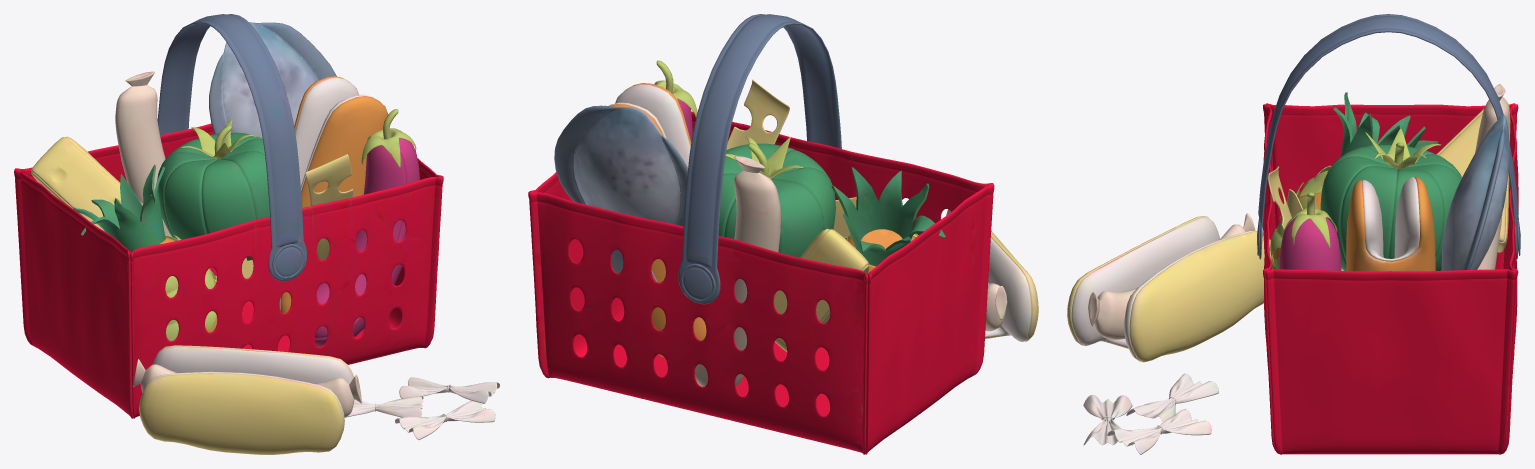
The model's file is latsas_kosz_z_zakupami_12_szt_70262003.glb.
3 views of the same model, side by side, from view 1: azimuth 30°, elevation 25°; view 2: azimuth 150°, elevation 25°; view 3: azimuth 270°, elevation 25° (orthographic). The views are drawn at different scales.
Parts seen in each view (by area): view 1: latsas_kosz_z_zakupami_12_szt_70262003; view 2: latsas_kosz_z_zakupami_12_szt_70262003; view 3: latsas_kosz_z_zakupami_12_szt_70262003.
Part boxes in pixels (x1=…): latsas_kosz_z_zakupami_12_szt_70262003: x1=14, y1=14, x2=499, y2=454; latsas_kosz_z_zakupami_12_szt_70262003: x1=528, y1=14, x2=1038, y2=454; latsas_kosz_z_zakupami_12_szt_70262003: x1=1067, y1=14, x2=1520, y2=454.
Size of the model in its own units: 0.1469 by 0.1396 by 0.1594.
Materials: 1 (1 with a texture image).
